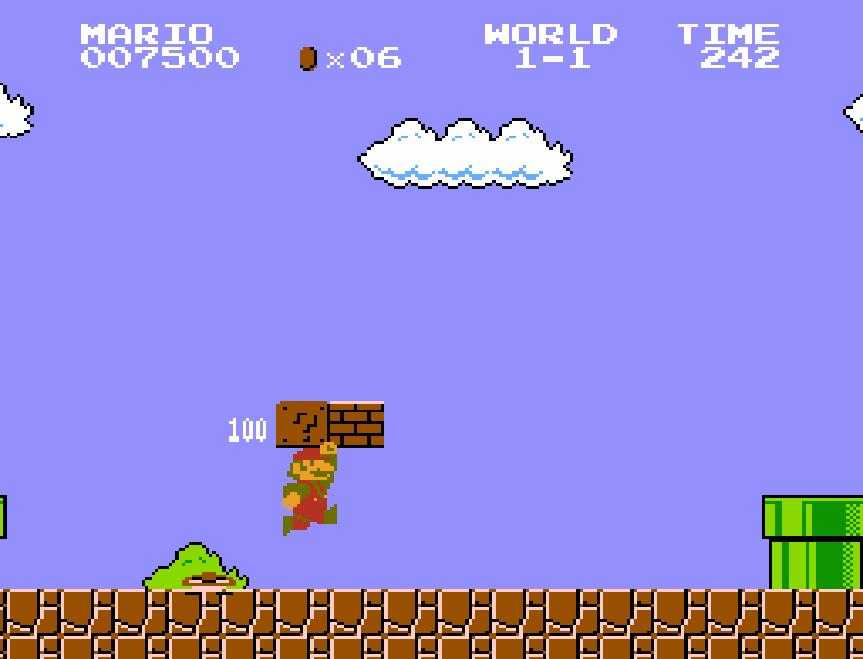big_mario: (280, 440, 338, 538)
